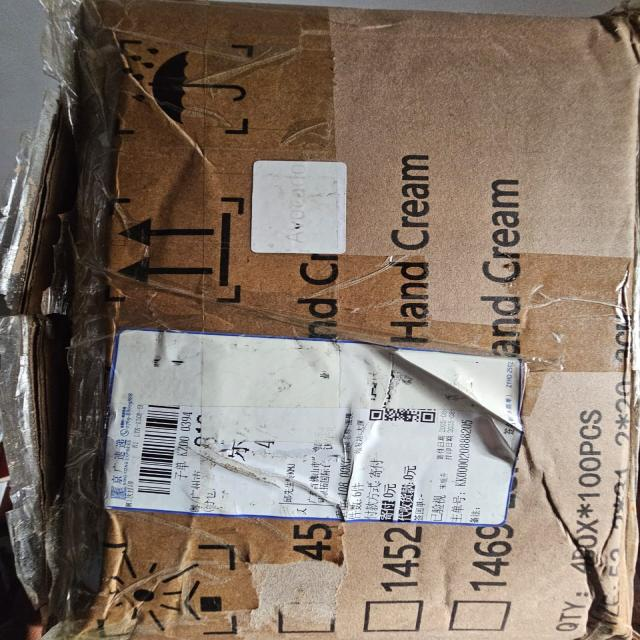carton_box: (0, 0, 640, 640)
export_mark_label: (90, 313, 549, 538)
keep_dry_label: (115, 33, 265, 156)
package_damage: (0, 1, 140, 640), (572, 534, 632, 640), (583, 0, 640, 62)
protect_from_heat_label: (80, 535, 249, 640)
this_side_up_label: (95, 193, 263, 311)
